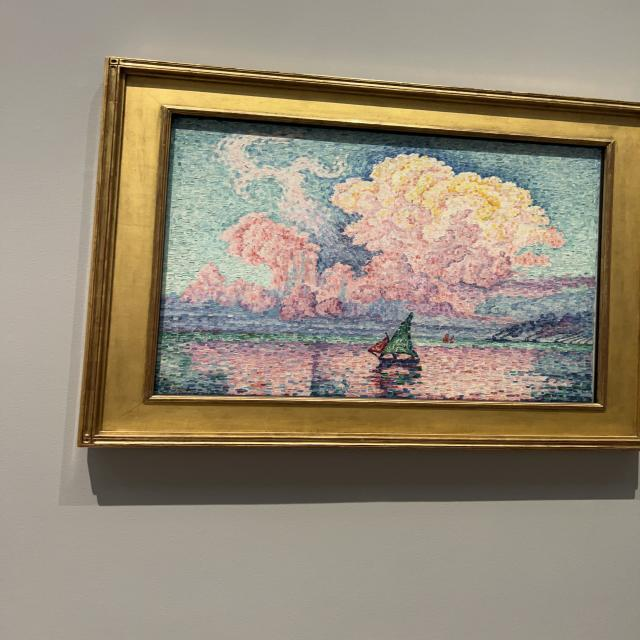sunrise: (159, 130, 599, 397)
